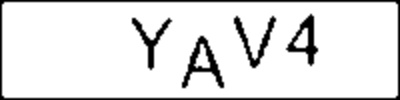4: (285, 10, 320, 68)
A: (177, 32, 228, 92)
V: (228, 12, 280, 72)
Y: (128, 14, 177, 73)
